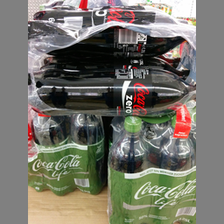soda: (28, 66, 196, 116), (27, 10, 196, 58), (107, 116, 152, 224), (152, 116, 196, 224), (31, 113, 74, 196), (69, 115, 106, 195)
